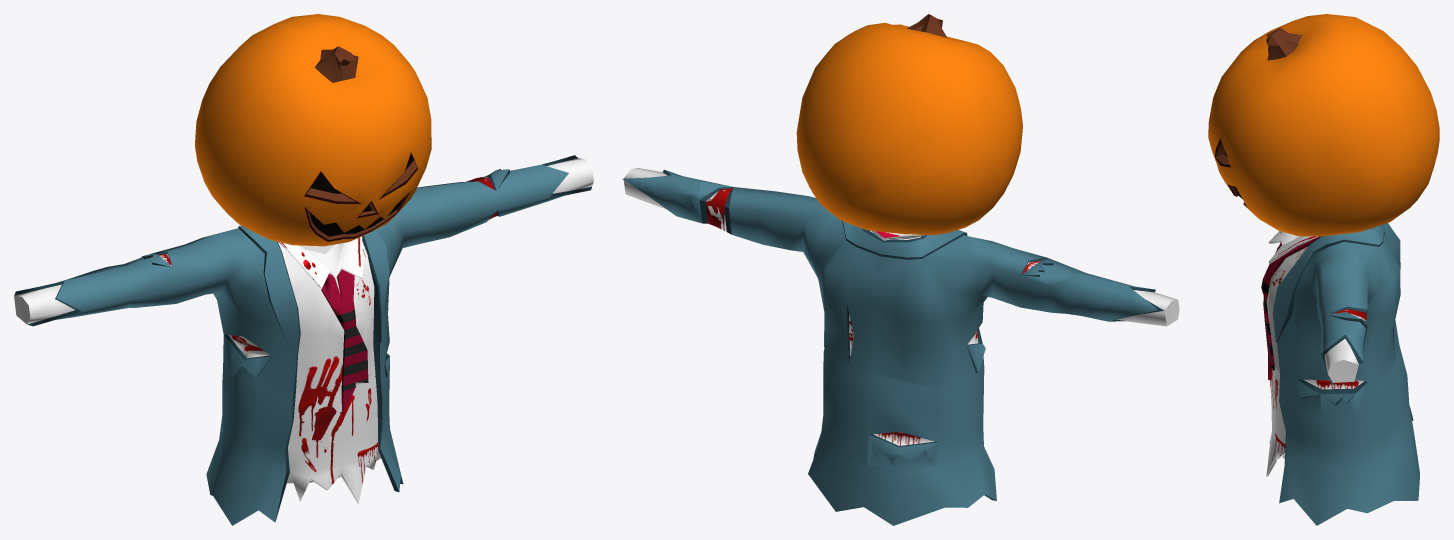
File: zombie_monster.glb
3 renders of one model, left to right at view 1: azimuth 30°, elevation 25°; view 2: azimuth 150°, elevation 25°; view 3: azimuth 270°, elevation 25°, orthographic. The views are drawn at different scales.
Parts seen in each view (by area): view 1: ZombieMonster; view 2: ZombieMonster; view 3: ZombieMonster.
Boxes of the visible parts, bbox=[...] form: ZombieMonster: bbox=[14, 14, 593, 525]; ZombieMonster: bbox=[622, 14, 1179, 525]; ZombieMonster: bbox=[1208, 14, 1439, 525].
Bounding box in the file's own units: 1.37 × 1.1 × 0.4996.
4 materials, 4 textured.
